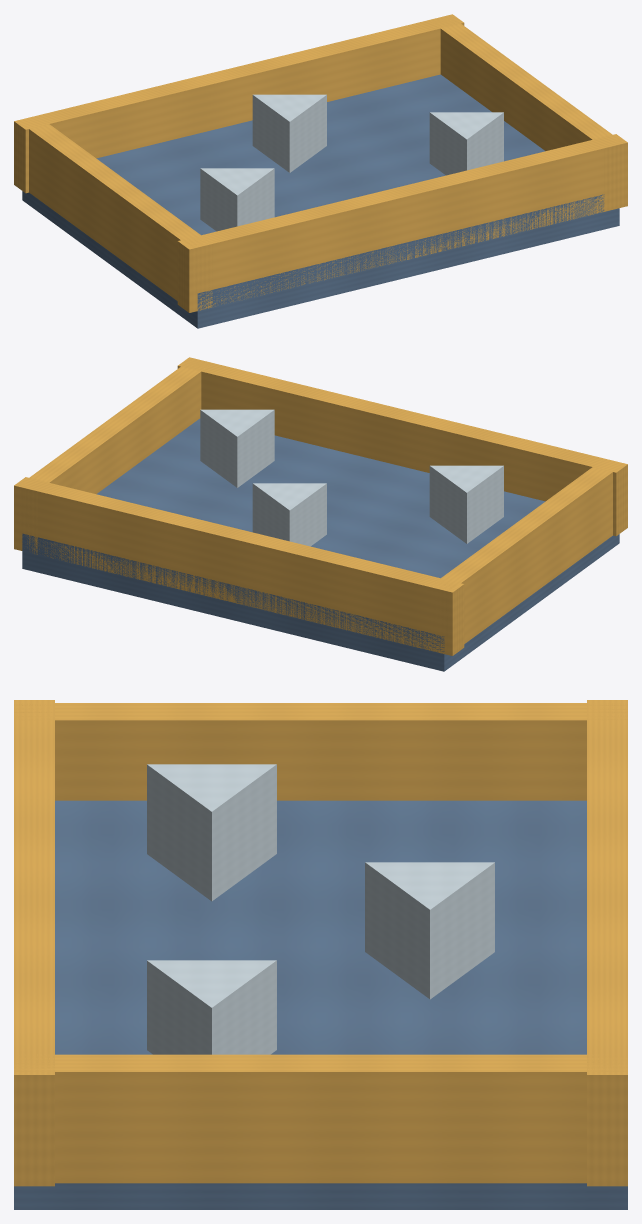
File: atlas100-s051-a03.lod2.glb
3 views of the same model, one above another, from view 1: azimuth 30°, elevation 25°; view 2: azimuth 150°, elevation 25°; view 3: azimuth 270°, elevation 25° (orthographic). The views are drawn at different scales.
Parts seen in each view (by area): view 1: atlas100-s051-a03:part-000, atlas100-s051-a03:part-002, atlas100-s051-a03:part-001, atlas100-s051-a03:part-003, atlas100-s051-a03:part-004, atlas100-s051-a03:part-006, atlas100-s051-a03:part-010, atlas100-s051-a03:part-008; view 2: atlas100-s051-a03:part-000, atlas100-s051-a03:part-001, atlas100-s051-a03:part-002, atlas100-s051-a03:part-003, atlas100-s051-a03:part-004, atlas100-s051-a03:part-010, atlas100-s051-a03:part-008, atlas100-s051-a03:part-006; view 3: atlas100-s051-a03:part-000, atlas100-s051-a03:part-004, atlas100-s051-a03:part-003, atlas100-s051-a03:part-001, atlas100-s051-a03:part-002, atlas100-s051-a03:part-006, atlas100-s051-a03:part-008, atlas100-s051-a03:part-010.
Part boxes in pixels (x1=…): atlas100-s051-a03:part-000: x1=22, y1=74, x2=619, y2=328; atlas100-s051-a03:part-002: x1=177, y1=134, x2=627, y2=312; atlas100-s051-a03:part-001: x1=14, y1=14, x2=464, y2=193; atlas100-s051-a03:part-003: x1=29, y1=124, x2=212, y2=311; atlas100-s051-a03:part-004: x1=430, y1=15, x2=624, y2=211; atlas100-s051-a03:part-006: x1=252, y1=94, x2=326, y2=172; atlas100-s051-a03:part-010: x1=429, y1=112, x2=503, y2=175; atlas100-s051-a03:part-008: x1=200, y1=168, x2=274, y2=231; atlas100-s051-a03:part-000: x1=22, y1=418, x2=619, y2=671; atlas100-s051-a03:part-001: x1=14, y1=477, x2=464, y2=655; atlas100-s051-a03:part-002: x1=177, y1=357, x2=627, y2=536; atlas100-s051-a03:part-003: x1=429, y1=467, x2=612, y2=654; atlas100-s051-a03:part-004: x1=17, y1=358, x2=211, y2=554; atlas100-s051-a03:part-010: x1=200, y1=409, x2=274, y2=487; atlas100-s051-a03:part-008: x1=429, y1=465, x2=503, y2=543; atlas100-s051-a03:part-006: x1=252, y1=483, x2=326, y2=546; atlas100-s051-a03:part-000: x1=14, y1=800, x2=627, y2=1209; atlas100-s051-a03:part-004: x1=14, y1=1054, x2=627, y2=1183; atlas100-s051-a03:part-003: x1=14, y1=703, x2=627, y2=800; atlas100-s051-a03:part-001: x1=587, y1=700, x2=627, y2=1186; atlas100-s051-a03:part-002: x1=14, y1=700, x2=54, y2=1186; atlas100-s051-a03:part-006: x1=365, y1=862, x2=494, y2=999; atlas100-s051-a03:part-008: x1=147, y1=764, x2=276, y2=901; atlas100-s051-a03:part-010: x1=147, y1=960, x2=276, y2=1054.
Bounding box in the file's own units: 1.36 × 0.2563 × 0.9414.
3 materials, 3 textured.
